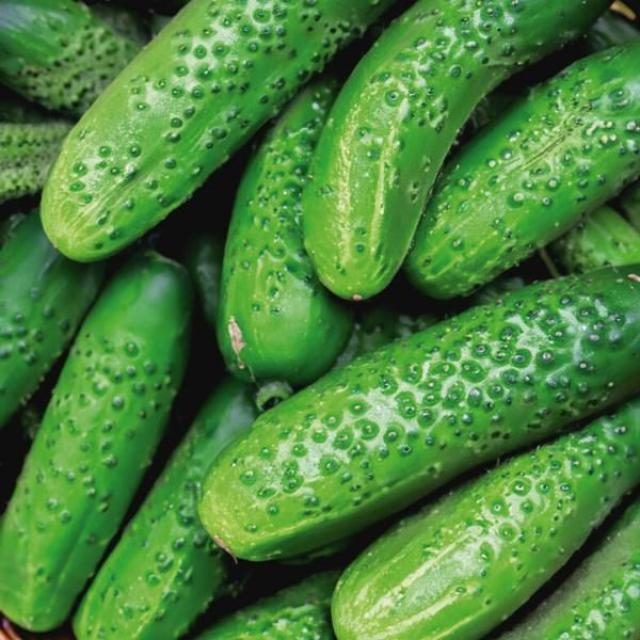Pickle: (200, 266, 640, 561), (302, 0, 607, 299), (41, 0, 389, 261), (331, 396, 640, 640), (0, 251, 192, 631), (405, 41, 640, 298), (74, 379, 255, 640), (216, 78, 352, 385)
